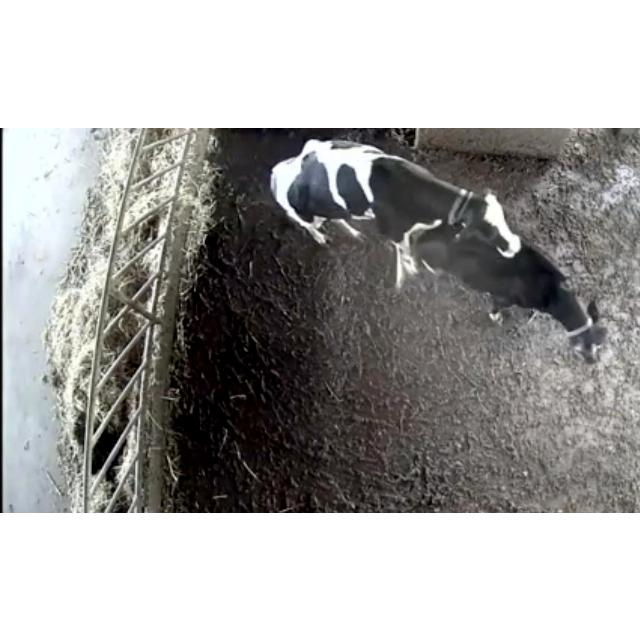ride: (258, 132, 530, 276)
